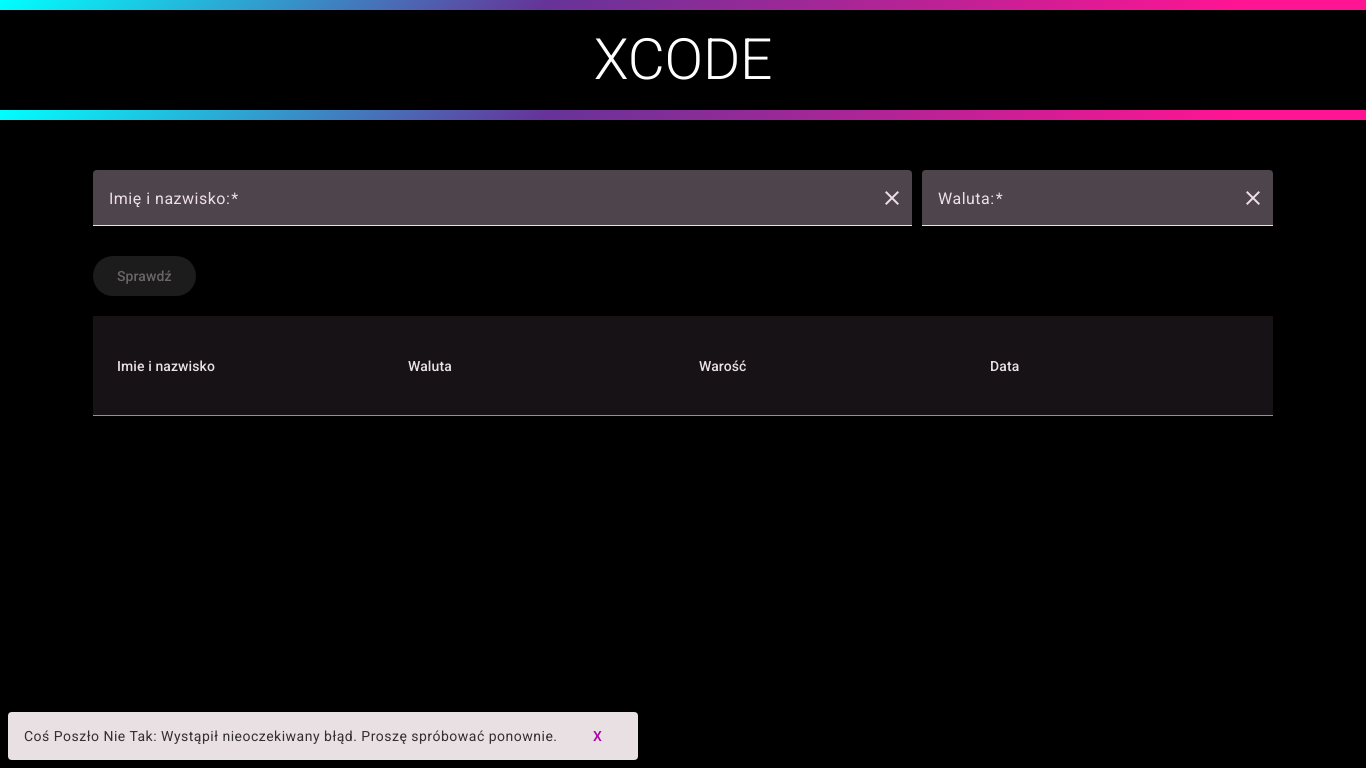
Test: Currency Page › should display result when post is success
Type "name" into the field labelled "Imię i nazwisko:" at (489, 206), box [109,194,868,218]
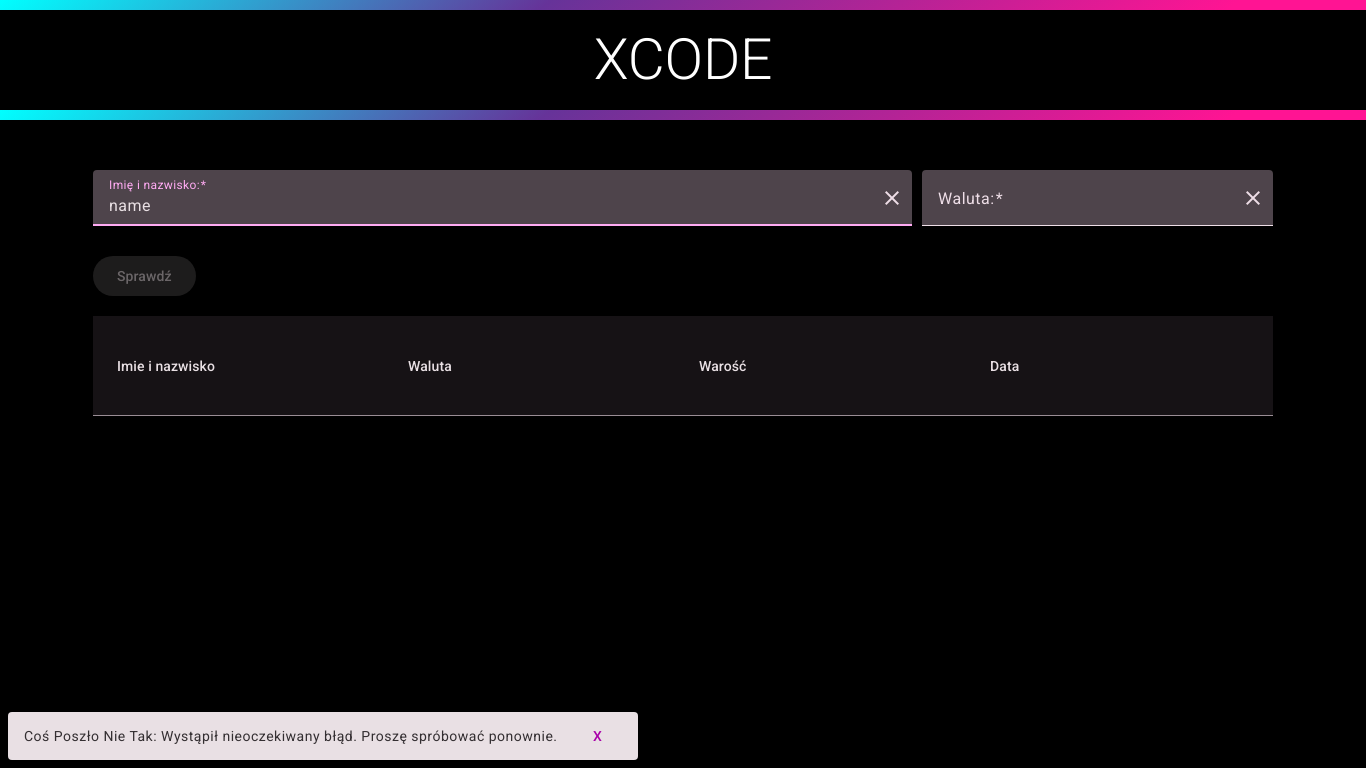
Type "eur" into the field labelled "Waluta:" at (1084, 206), box [938,194,1229,218]
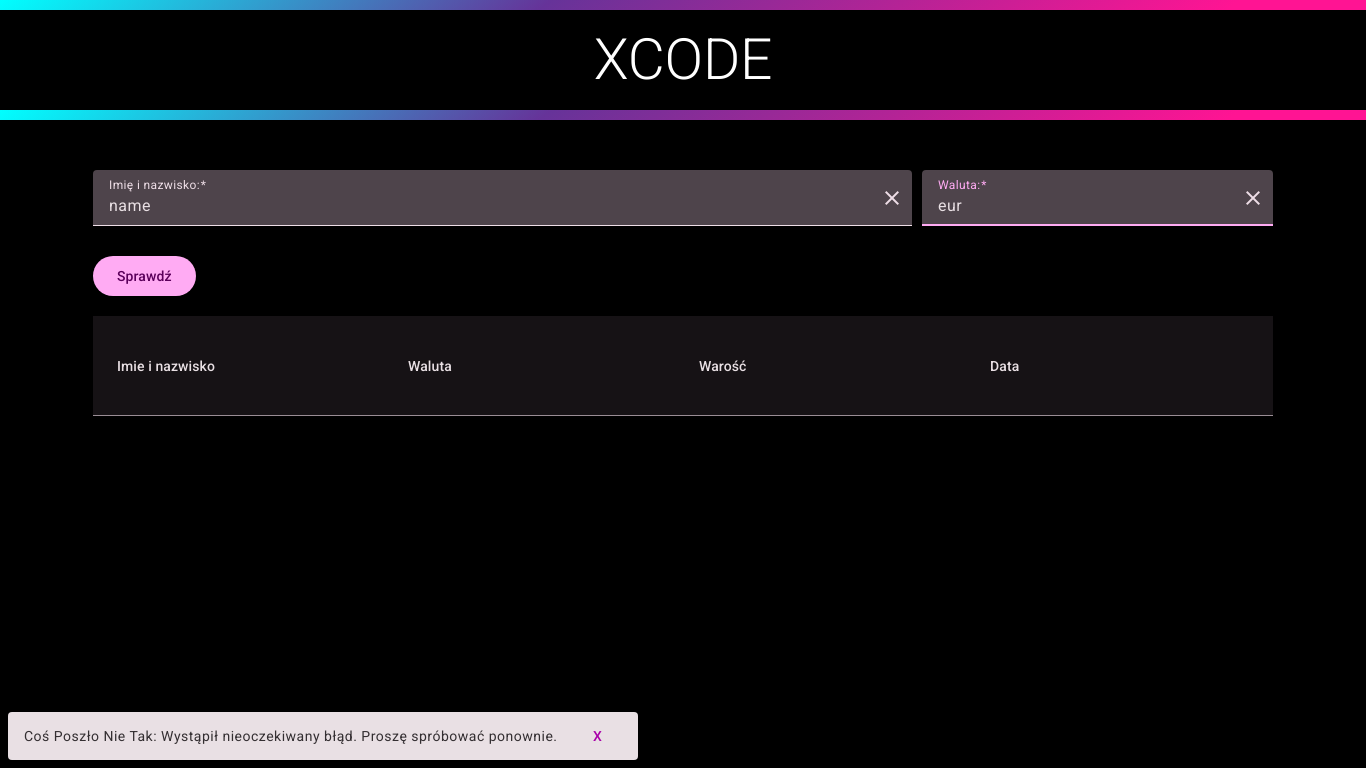
Click the button "Sprawdź" at (145, 276), box [93,256,196,296]
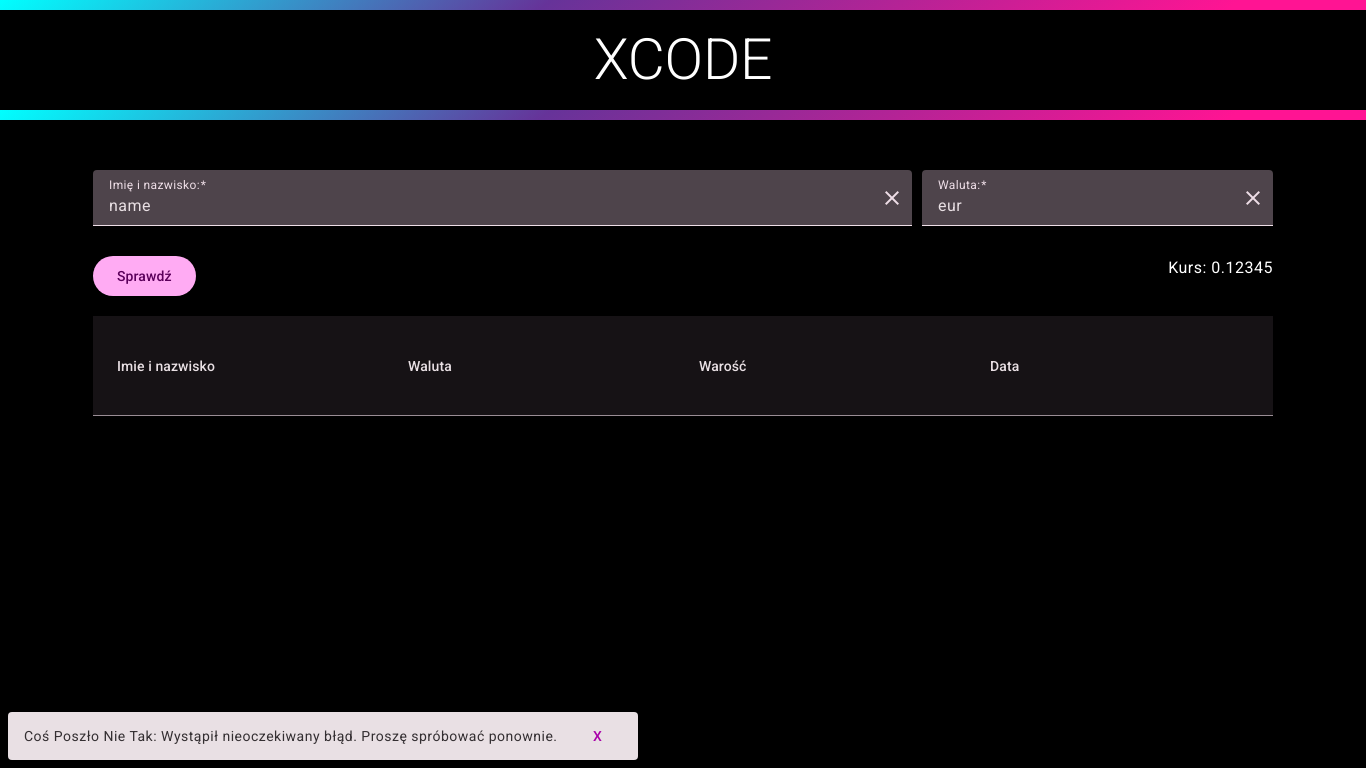
Now the text "Kurs: 0.12345" is shown, box [1168,256,1273,280]
